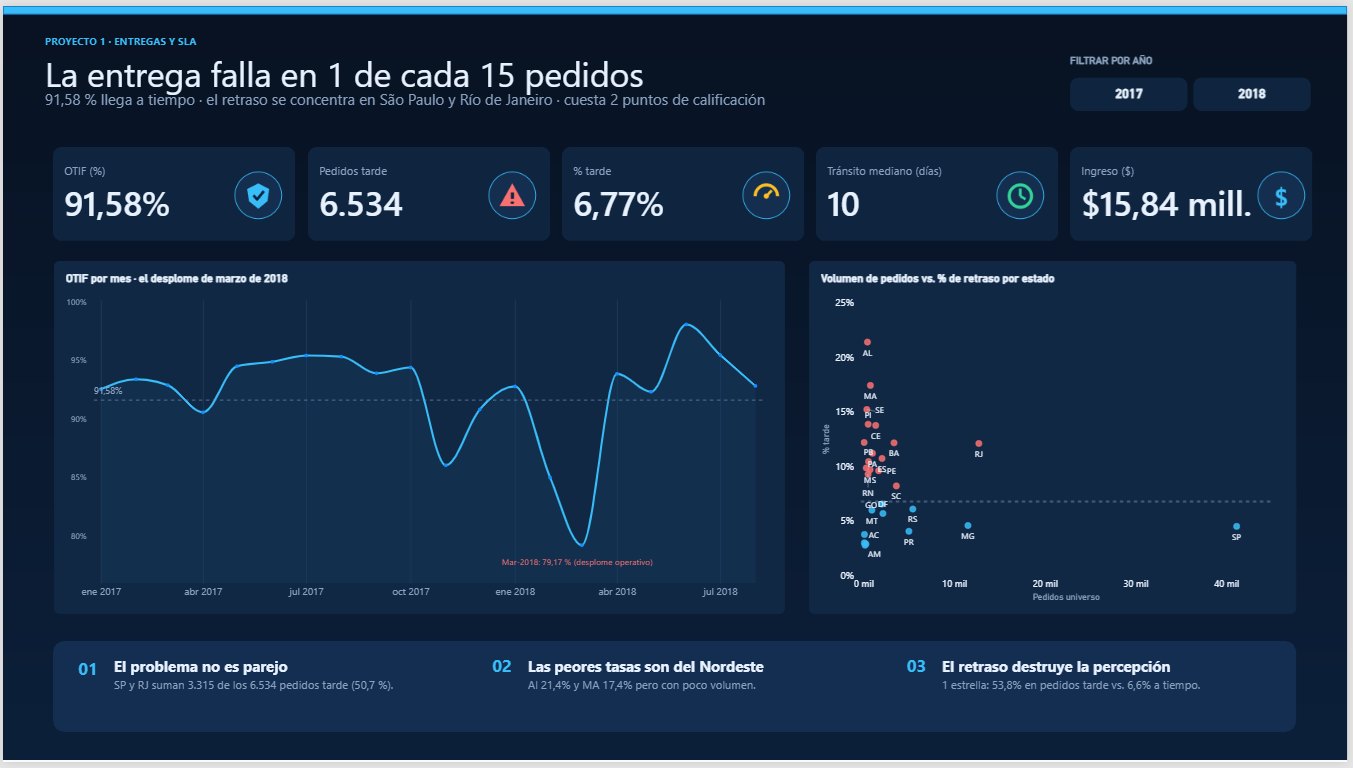

The dashboard page shown, as its layout file describes it:
{"tool":"powerbi","page":{"name":"Resumen","canvas":[1920,1080],"ordinal":0},"visuals":[{"type":"textbox","box":[22.6,27.9,468.2,62.5],"z":0},{"type":"textbox","box":[22.6,90.4,514.7,42.6],"z":1000},{"type":"cardVisual","fields":{"Data":["_Medidas.OTIF %"]},"box":[22.6,151.6,190.2,107.7],"z":2000},{"type":"cardVisual","fields":{"Data":["_Medidas.Ingreso"]},"box":[879.2,151.6,335.2,107.7],"z":3000},{"type":"cardVisual","fields":{"Data":["_Medidas.Días tránsito mediana"]},"box":[659,151.6,198.2,107.7],"z":4000},{"type":"cardVisual","fields":{"Data":["_Medidas.% tarde"]},"box":[446.9,151.6,190.2,107.7],"z":5000},{"type":"cardVisual","fields":{"Data":["_Medidas.Pedidos tarde"]},"box":[234.8,151.6,190.2,107.7],"z":6000},{"type":"lineChart","title":"OTIF %","fields":{"Category":["dim_tiempo.fecha_mes"],"Y":["_Medidas.OTIF %"]},"box":[22.3,314.4,834.8,481.4],"z":7000},{"type":"clusteredBarChart","title":"Pedidos tarde por estado (top 10)","fields":{"Category":["dim_cliente.estado"],"Y":["_Medidas.Pedidos tarde"]},"box":[879.3,314.4,836.2,481.4],"z":8000},{"type":"textbox","box":[23.7,826.4,1693.2,130.8],"z":9000}]}

Visuals, with their boxes in screenshot pixels (x1, y1, x2, y2), scaled from the page's 1920x1080 canvas onto the 1353x768 screenshot:
textbox: [x1=16, y1=20, x2=346, y2=64]
textbox: [x1=16, y1=64, x2=379, y2=95]
cardVisual - _Medidas.OTIF %: [x1=16, y1=108, x2=150, y2=184]
cardVisual - _Medidas.Ingreso: [x1=620, y1=108, x2=856, y2=184]
cardVisual - _Medidas.Días tránsito mediana: [x1=464, y1=108, x2=604, y2=184]
cardVisual - _Medidas.% tarde: [x1=315, y1=108, x2=449, y2=184]
cardVisual - _Medidas.Pedidos tarde: [x1=165, y1=108, x2=299, y2=184]
"OTIF %" lineChart: [x1=16, y1=224, x2=604, y2=566]
"Pedidos tarde por estado (top 10)" clusteredBarChart: [x1=620, y1=224, x2=1209, y2=566]
textbox: [x1=17, y1=588, x2=1210, y2=681]
